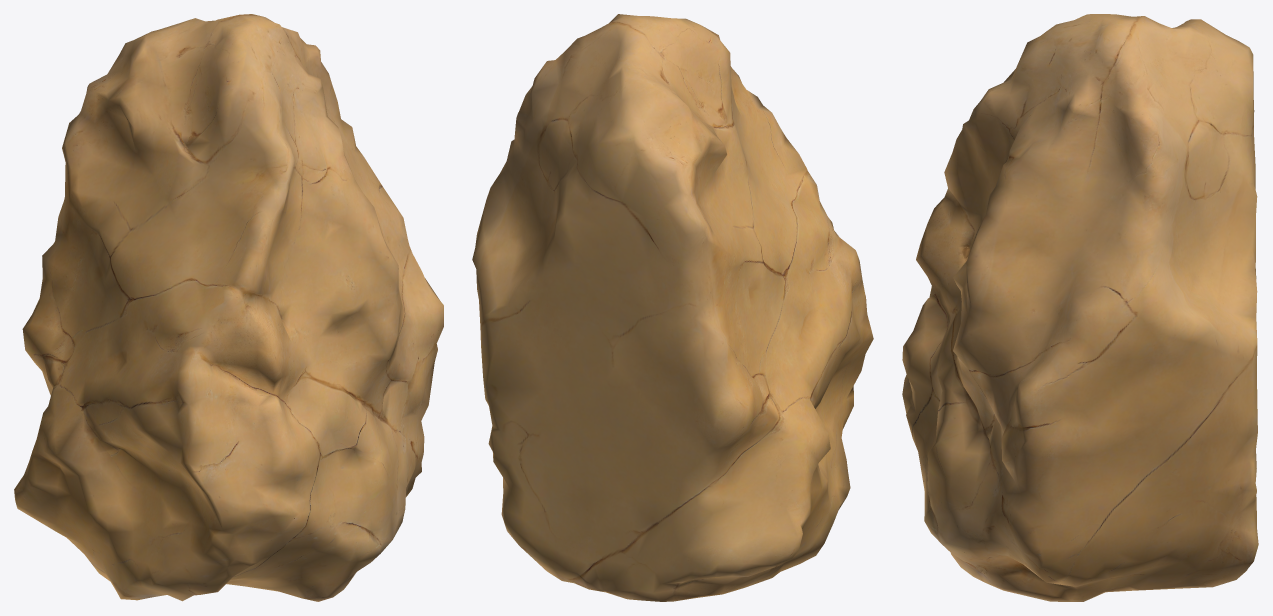
File: Huge_desert_rock_1120194555_texture.fbx
3 views of the same model, side by side, from view 1: azimuth 30°, elevation 25°; view 2: azimuth 150°, elevation 25°; view 3: azimuth 270°, elevation 25° (orthographic). The views are drawn at different scales.
Parts seen in each view (by area): view 1: input; view 2: input; view 3: input.
Part boxes in pixels (left/top/right/bottom): input: left=14, top=14, right=443, bottom=601; input: left=472, top=14, right=873, bottom=601; input: left=902, top=14, right=1258, bottom=601.
Size of the model in its own units: 140 by 200 by 119.
1 material, 1 textured.
